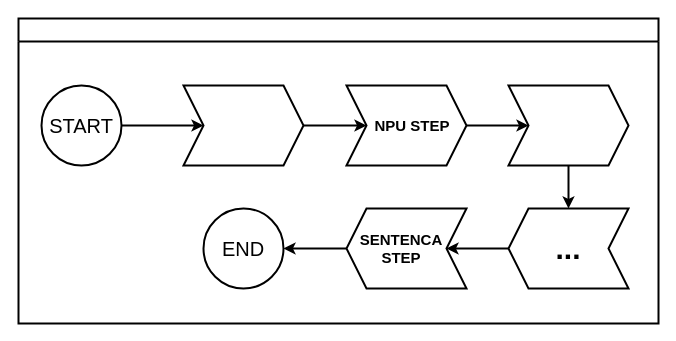
This 676x341 diagram has some shape labels left out. The box of each missing label's shape, as (x1, y1, x2, y2) in pixels:
AUDIENCIA STEP: (507, 84, 629, 166)
PROCESSO CLEAN STEP: (182, 84, 304, 166)
